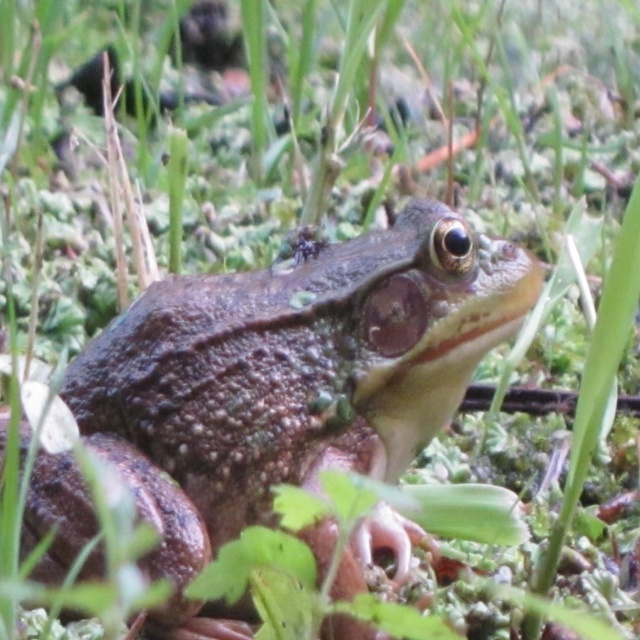Frog: (0, 198, 542, 640)
